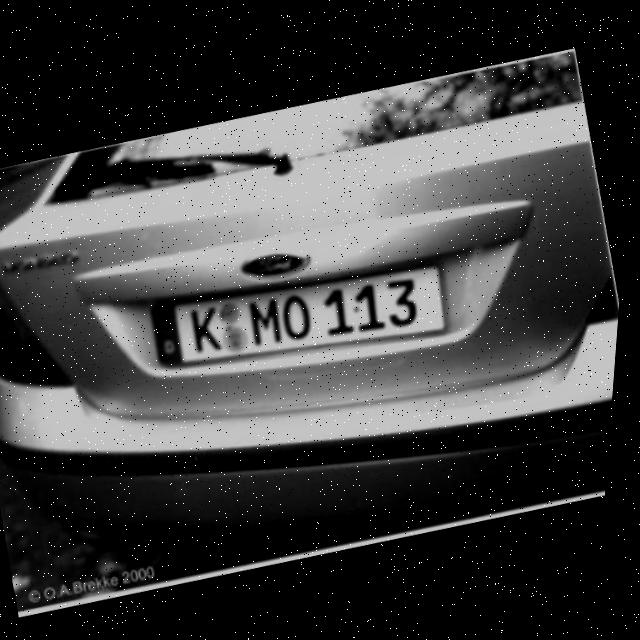license-plates: (151, 266, 446, 366)
